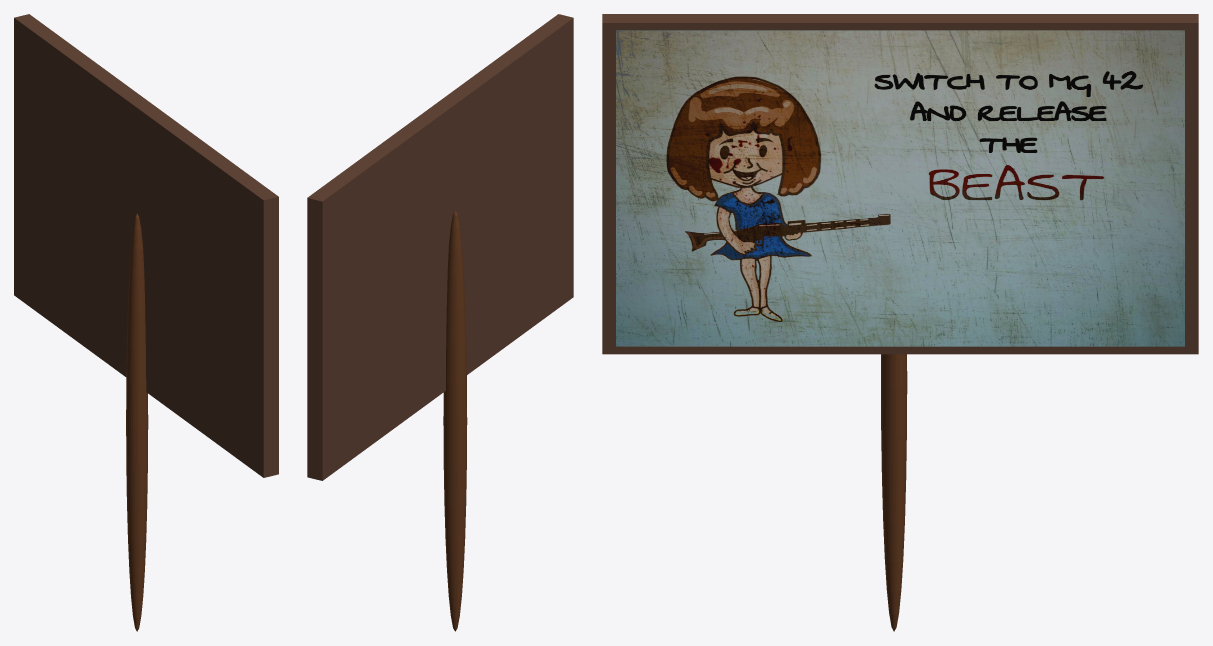
Rendered from Billboard_.fbx.
3 renders of one model, left to right at view 1: azimuth 30°, elevation 25°; view 2: azimuth 150°, elevation 25°; view 3: azimuth 270°, elevation 25°, orthographic. The views are drawn at different scales.
Visible parts, largest first — view 1: Cube.002; view 2: Cube.002; view 3: Cube.002.
Part boxes in pixels (bbox=[...]): Cube.002: bbox=[14, 14, 278, 631]; Cube.002: bbox=[307, 14, 573, 631]; Cube.002: bbox=[602, 14, 1198, 631].
Bounding box in the file's own units: 56.12 × 941 × 819.
